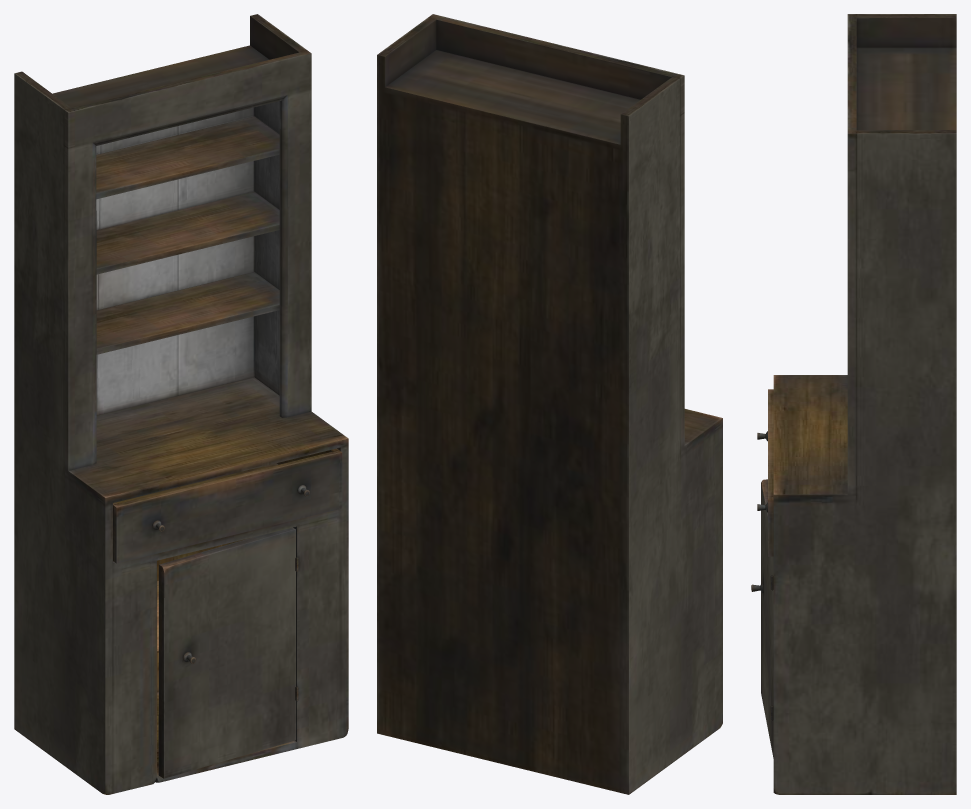
The model's file is home_storage_cabinet.glb.
3 views of the same model, side by side, from view 1: azimuth 30°, elevation 25°; view 2: azimuth 150°, elevation 25°; view 3: azimuth 270°, elevation 25° (orthographic). The views are drawn at different scales.
Visible parts, largest first — view 1: painted_wooden_cabinet_02, painted_wooden_cabinet_02_door, painted_wooden_cabinet_02_drawer; view 2: painted_wooden_cabinet_02; view 3: painted_wooden_cabinet_02, painted_wooden_cabinet_02_door, painted_wooden_cabinet_02_drawer.
Boxes of the visible parts, x1,y1,x2,y2 form: painted_wooden_cabinet_02: [14, 14, 348, 794]; painted_wooden_cabinet_02_door: [158, 527, 295, 778]; painted_wooden_cabinet_02_drawer: [113, 448, 342, 563]; painted_wooden_cabinet_02: [377, 14, 722, 794]; painted_wooden_cabinet_02: [770, 14, 956, 794]; painted_wooden_cabinet_02_door: [751, 479, 773, 758]; painted_wooden_cabinet_02_drawer: [757, 389, 773, 556].
Size of the model in its own units: 0.9969 by 2.57 by 0.7223.
1 material, 1 textured.
